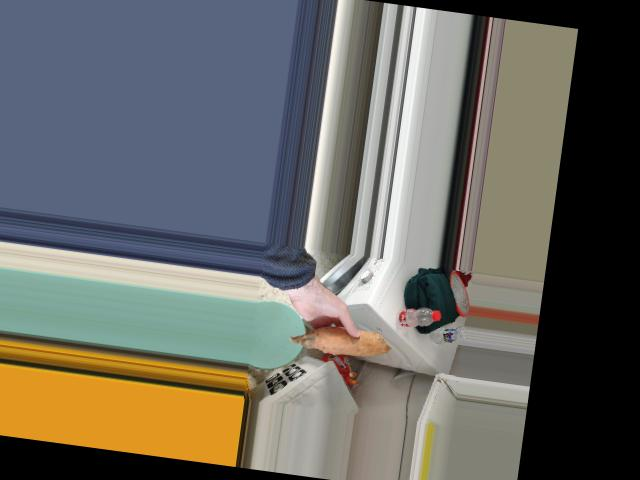sweet_potato: (297, 318, 380, 359)
